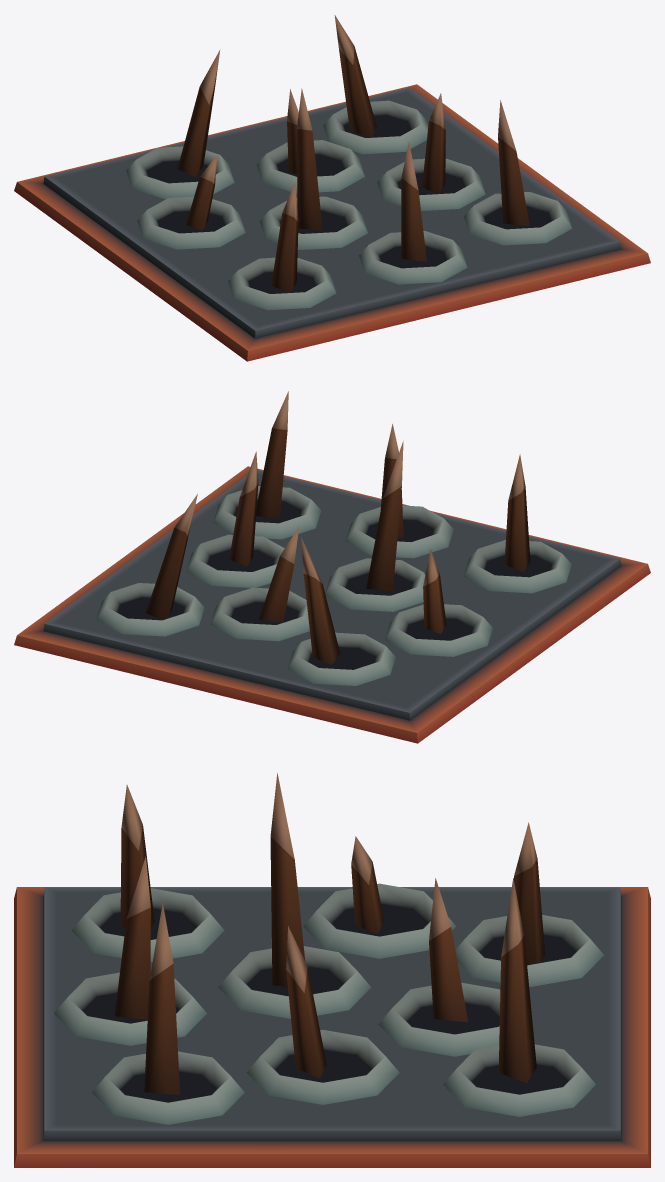
File: spike.fbx
The picture shows the model from 3 angles, top to bottom: view 1: azimuth 30°, elevation 25°; view 2: azimuth 150°, elevation 25°; view 3: azimuth 270°, elevation 25°; orthographic projection. The views are drawn at different scales.
Visible parts, largest first — view 1: spikesBase, spikes; view 2: spikesBase, spikes; view 3: spikesBase, spikes.
Part boxes in pixels (x1,y1,x2,y2): spikesBase: (14, 84, 650, 361); spikes: (177, 15, 529, 292); spikesBase: (14, 466, 650, 743); spikes: (146, 391, 530, 664); spikesBase: (14, 883, 650, 1167); spikes: (114, 773, 545, 1095).
Bounding box in the file's own units: 1000 × 1000 × 418.
